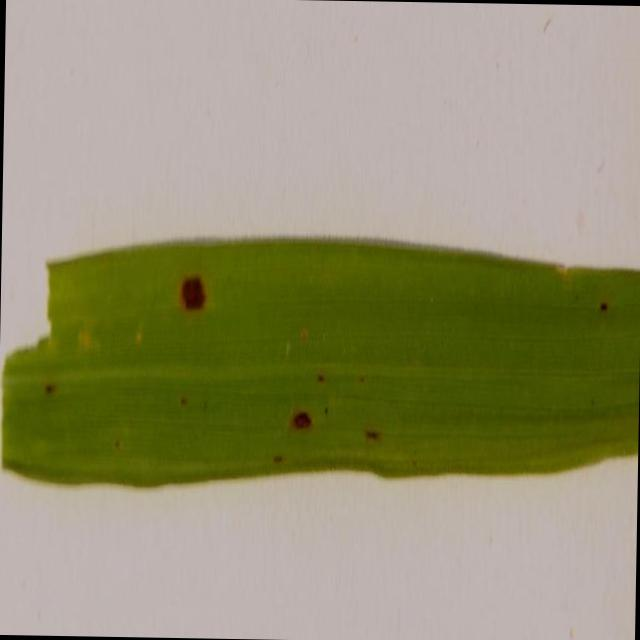Rice_Brownspot: (168, 243, 222, 333), (278, 378, 324, 452), (34, 350, 64, 431), (358, 407, 388, 458), (590, 278, 616, 330)
